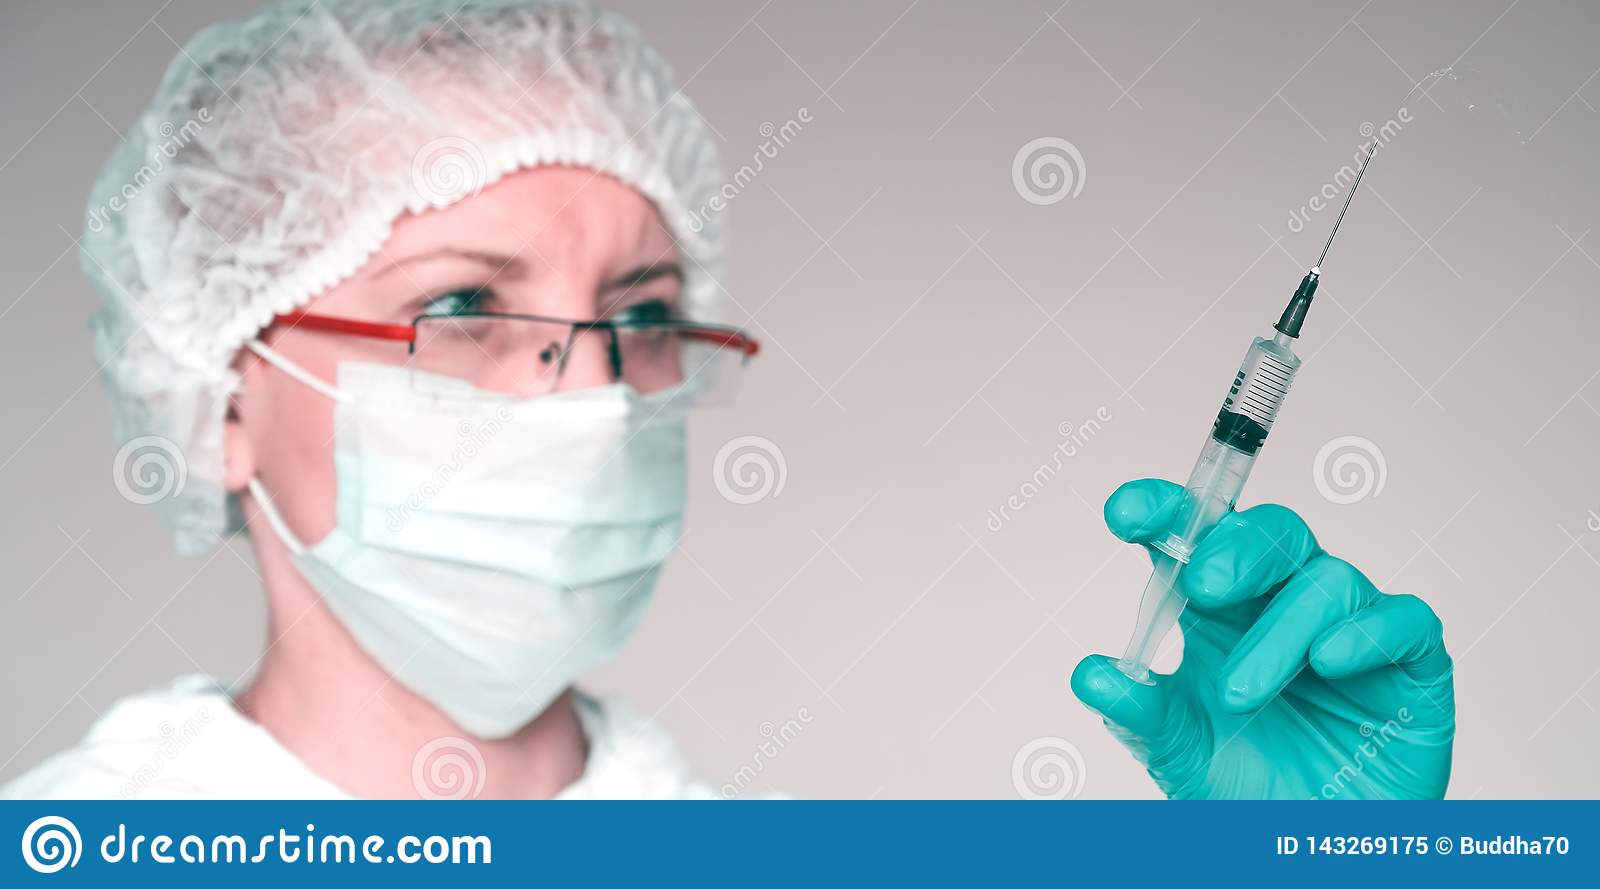mask: (267, 354, 689, 748)
